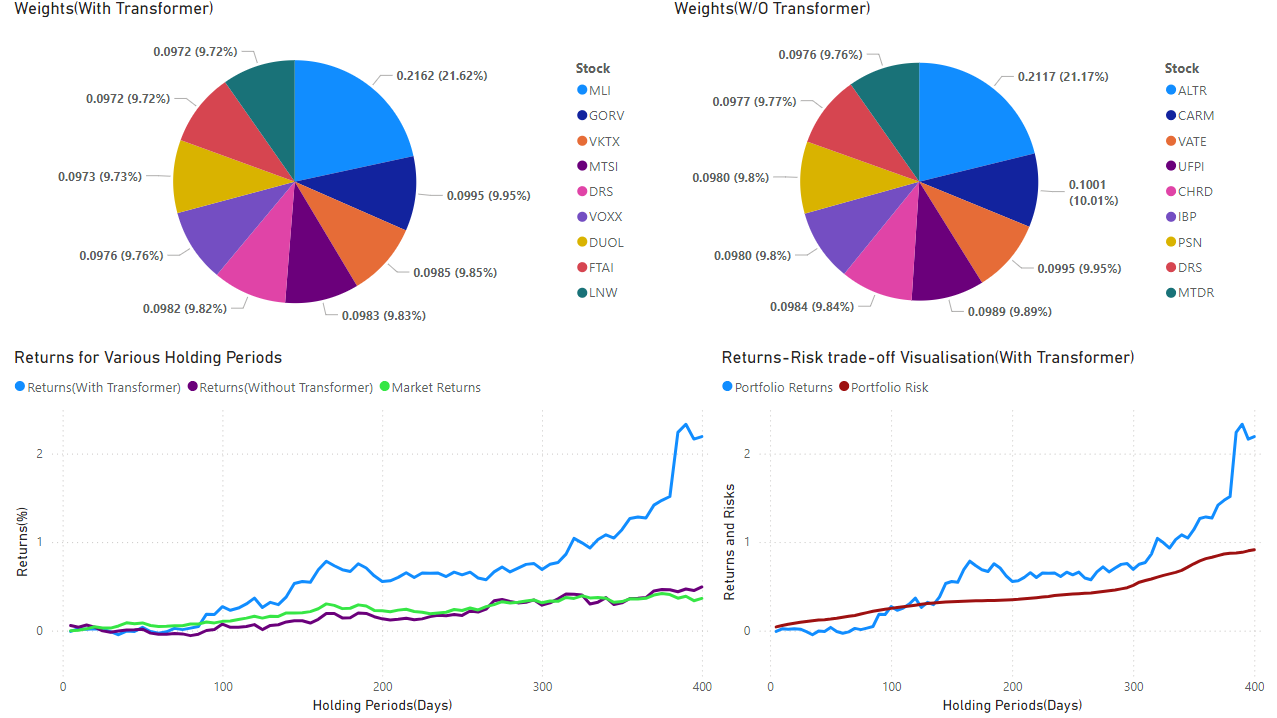

What the dashboard file says about the page in this screenshot:
{"tool":"powerbi","page":{"name":"High Risk(Risk Aversion 2.5)","canvas":[1280,720],"ordinal":0},"visuals":[{"type":"pieChart","title":"Weights(With Transformer)","fields":{"Category":["trans_weights_2_5.Stock"],"Y":["Sum(trans_weights_2_5.Optimized_Weight)"]},"box":[9.6,0,629.8,348.5],"z":0},{"type":"lineChart","title":"Returns for Various Holding Periods","fields":{"Category":["stock_returns_2_5.Holding Periods"],"Y":["Sum(stock_returns_2_5.With Transformer)","Sum(stock_returns_2_5.Without Transformer)","Sum(stock_returns_2_5.Market Returns)"]},"box":[9.6,348.5,708.1,371.9],"z":1},{"type":"pieChart","title":"Weights(W/O Transformer)","fields":{"Category":["wotrans_weights_2_5.Stock"],"Y":["Sum(wotrans_weights_2_5.Optimized Weight)"]},"box":[669.6,0,559.9,348.5],"z":2},{"type":"lineChart","title":"Returns-Risk trade-off Visualisation(With Transformer)","fields":{"Category":["stock_returns_2_5.Holding Periods"],"Y":["Sum(stock_returns_2_5.With Transformer)","Sum(stock_returns_2_5.Portfolio Risk)"]},"box":[717.7,348.5,553,371.9],"z":3}]}

Visuals, with their boxes in screenshot pixels (x1, y1, x2, y2), scaled from the page's 1280x720 canvas onto the 1277x718 screenshot:
"Weights(With Transformer)" pieChart: left=10, top=0, right=638, bottom=348
"Returns for Various Holding Periods" lineChart: left=10, top=348, right=716, bottom=717
"Weights(W/O Transformer)" pieChart: left=668, top=0, right=1227, bottom=348
"Returns-Risk trade-off Visualisation(With Transformer)" lineChart: left=716, top=348, right=1268, bottom=717
